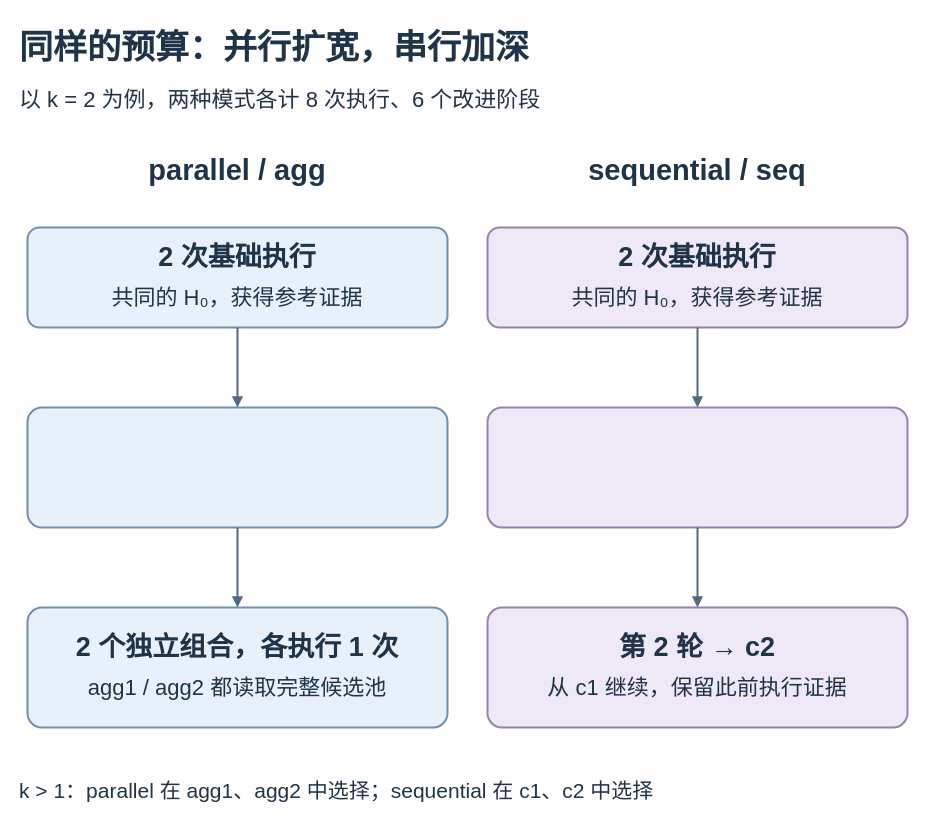
Image size: 934x829. Some labels were removed from this diagram. Here are the shapes that lost their labels. From the top down, the centre of each, then its label:
At point (237, 467): "4 个候选，各试跑 1 次 INV × 2 + DOM × 2".
At point (697, 467): "第 1 轮 → c1 INV / DOM 试跑后组合并执行".
